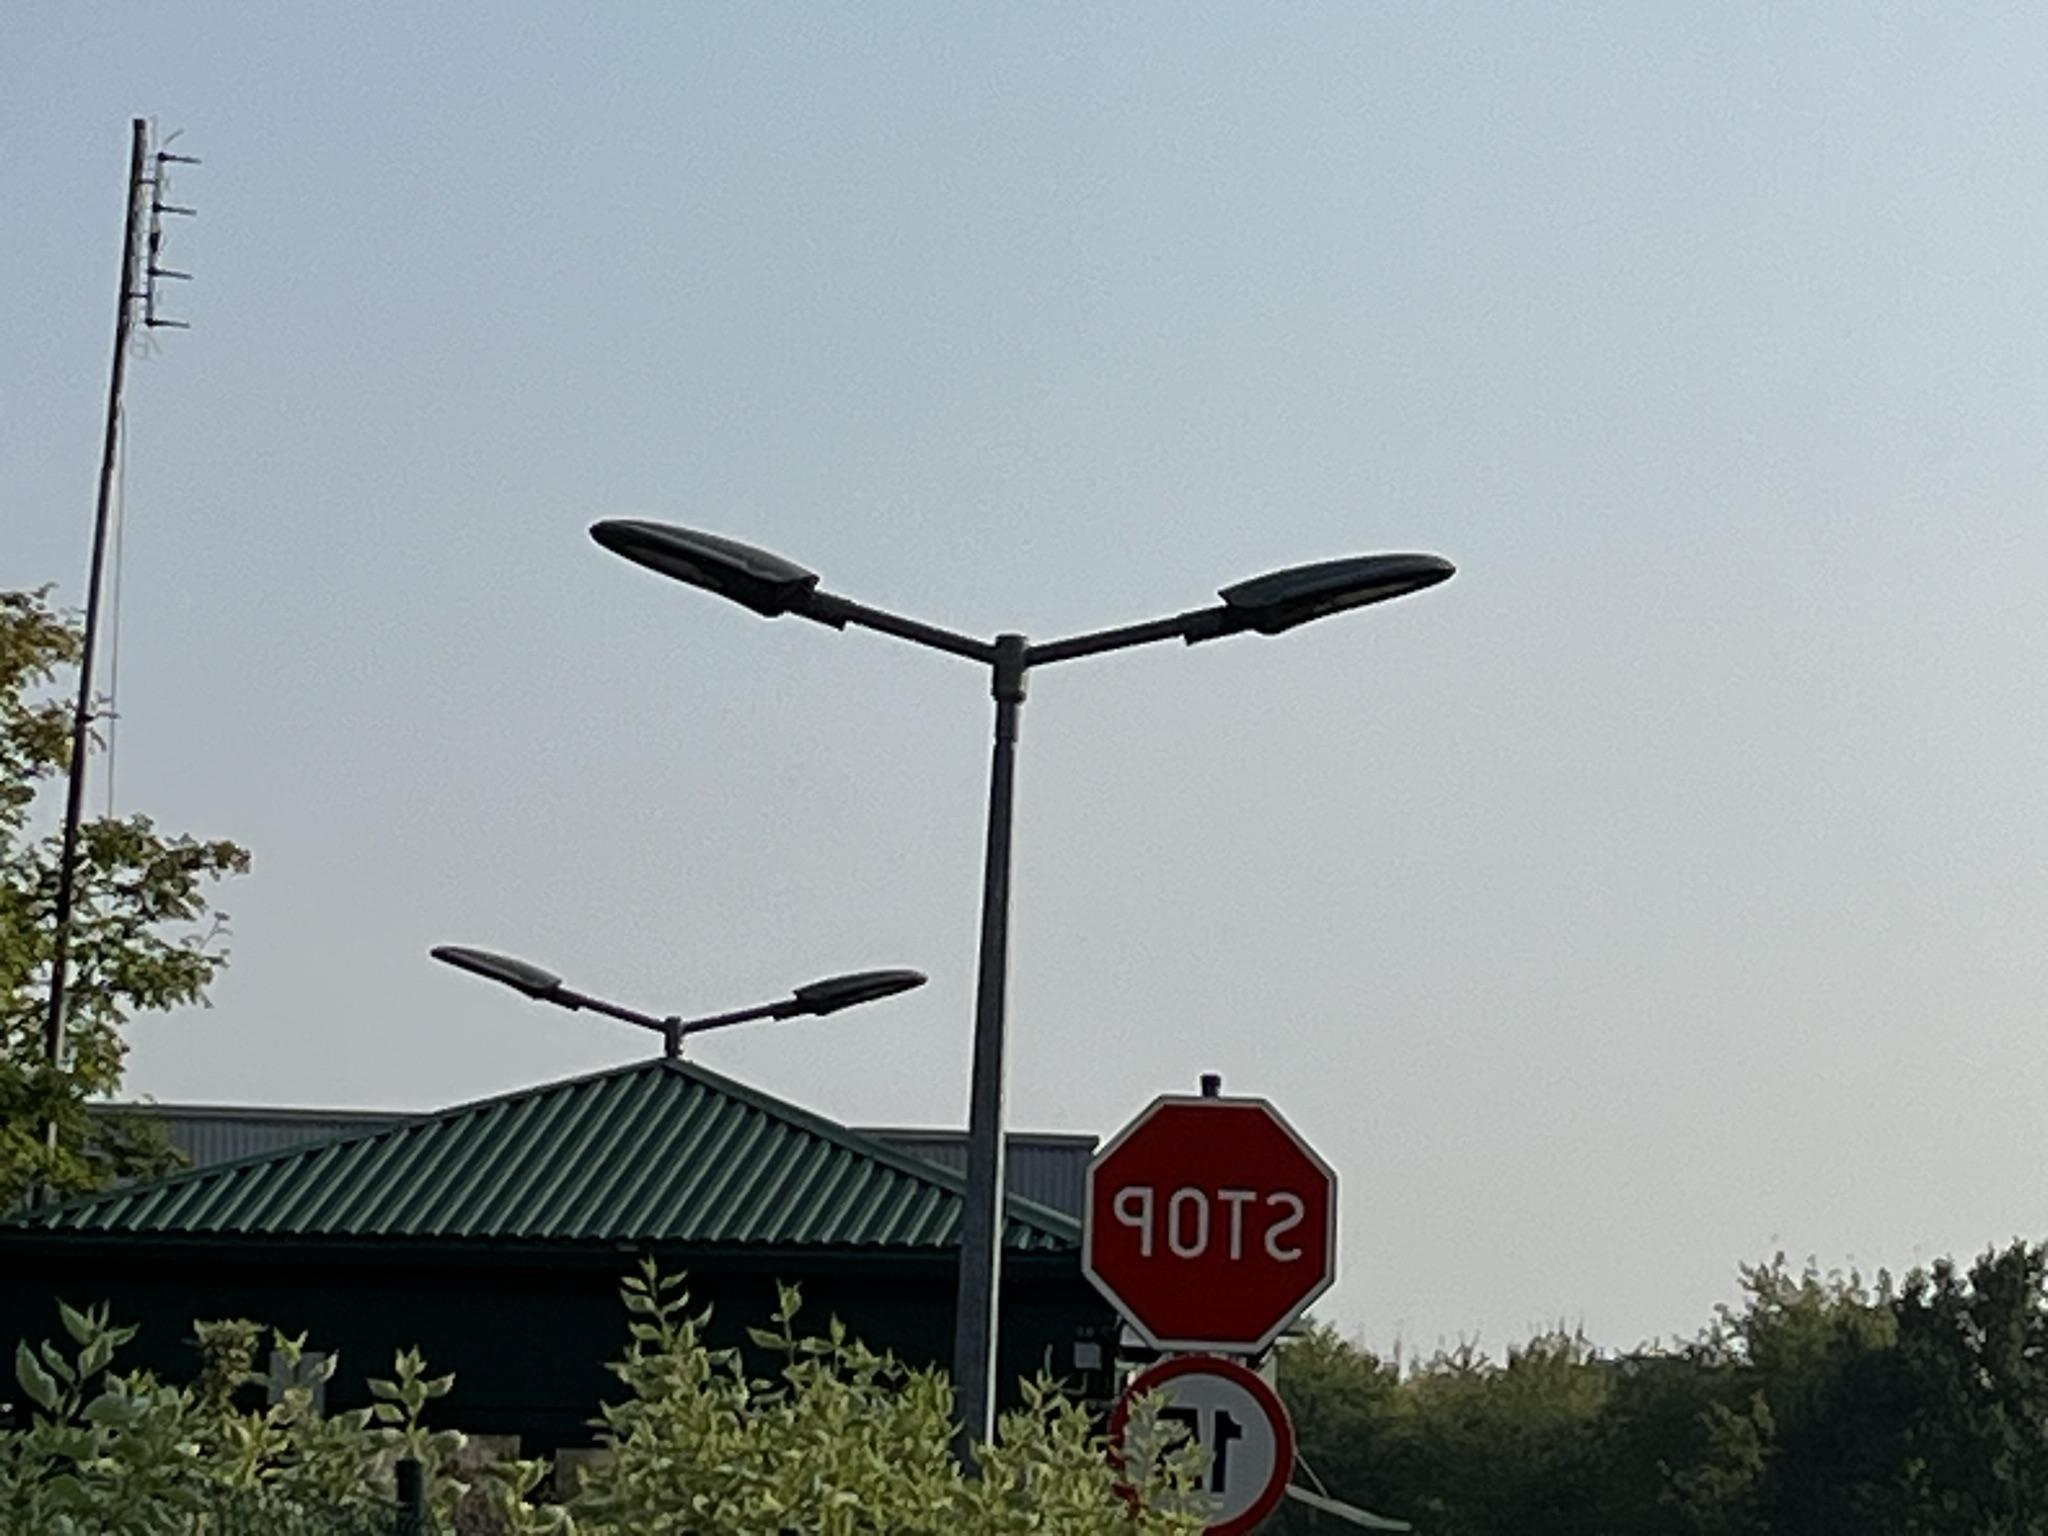prohibitory: (1077, 1091, 1340, 1352), (1103, 1354, 1298, 1536)
